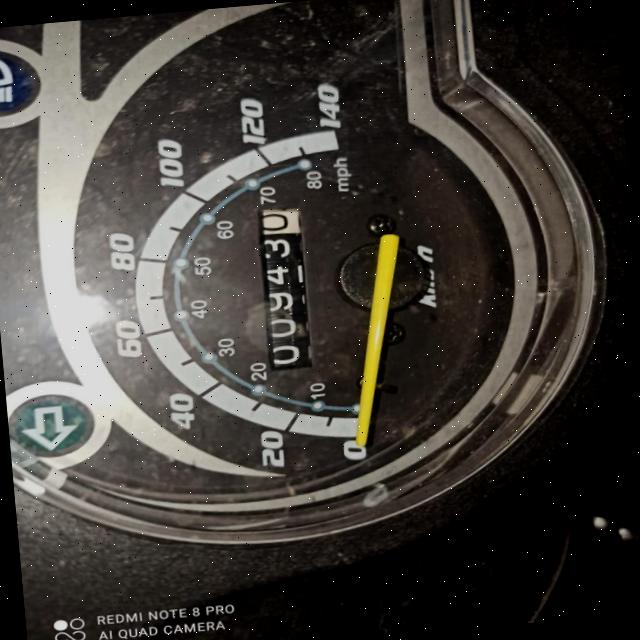odometer: (248, 202, 317, 372)
